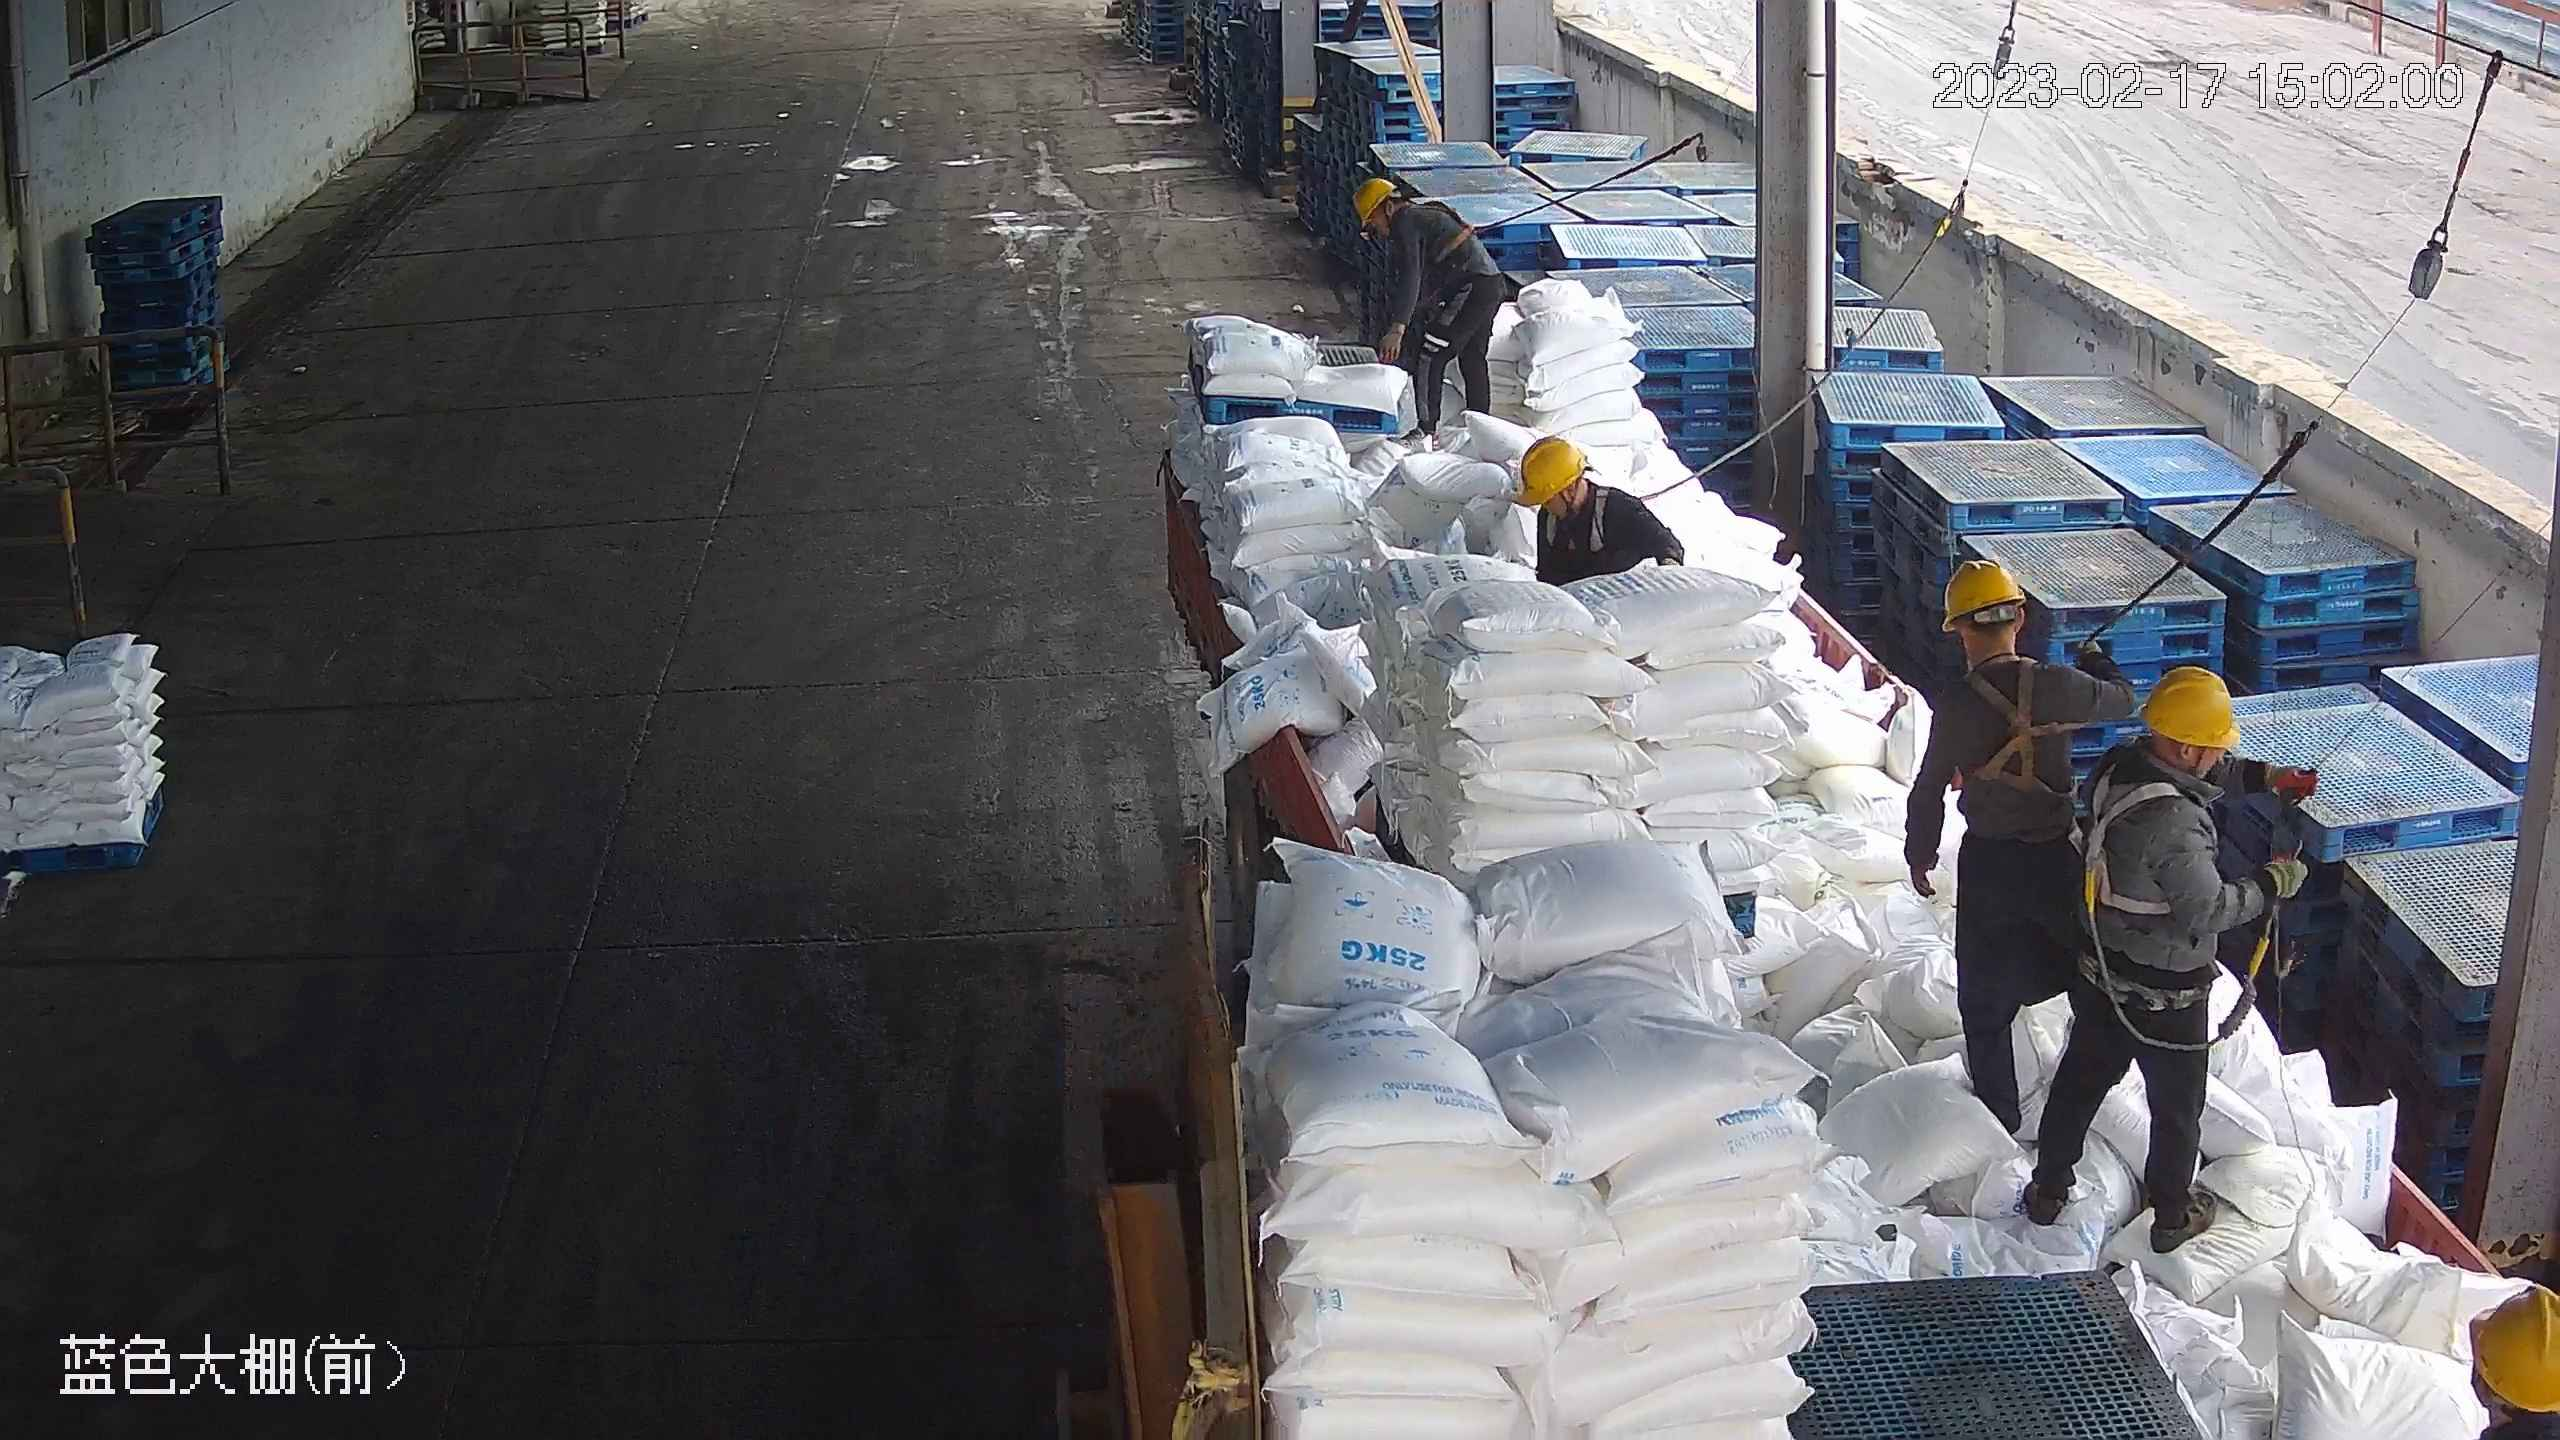belt: (2077, 753, 2229, 926), (1962, 656, 2071, 798), (1401, 196, 1481, 263), (1553, 484, 1613, 558)
head: (2081, 663, 2253, 843), (1928, 553, 2080, 726), (1515, 431, 1659, 544), (1355, 177, 1461, 257)
helmet: (2472, 1282, 2560, 1418), (2139, 662, 2248, 751), (1938, 556, 2030, 632), (1518, 433, 1587, 505), (1355, 177, 1401, 233)
people: (2049, 660, 2327, 1257), (1902, 554, 2129, 1179), (1352, 176, 1513, 443)
truck: (1154, 438, 2555, 1433)
